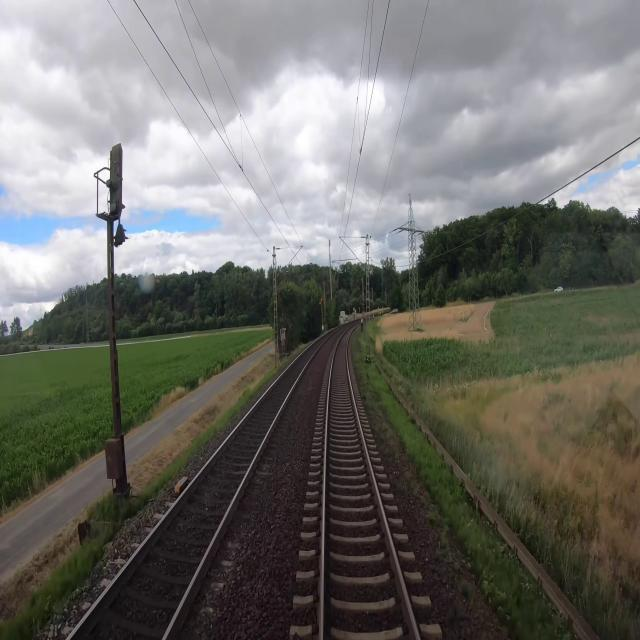Plant: (351, 335, 384, 417), (378, 422, 399, 461), (446, 601, 465, 631), (459, 578, 475, 603), (436, 533, 450, 560), (397, 470, 411, 492), (427, 504, 441, 524)
